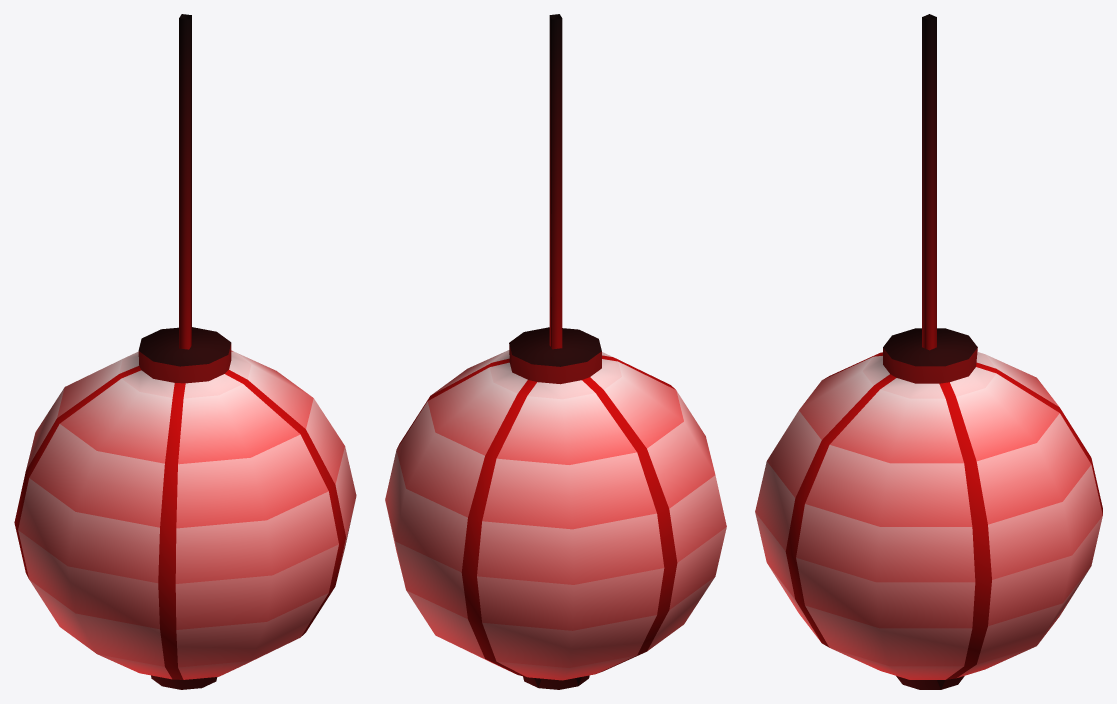
The model's file is SK_Lantern_001.FBX.
3 views of the same model, side by side, from view 1: azimuth 30°, elevation 25°; view 2: azimuth 150°, elevation 25°; view 3: azimuth 270°, elevation 25° (orthographic).
Parts seen in each view (by area): view 1: SK_Lantern_001; view 2: SK_Lantern_001; view 3: SK_Lantern_001.
Part boxes in pixels (bbox=[...]): SK_Lantern_001: bbox=[14, 14, 356, 689]; SK_Lantern_001: bbox=[385, 14, 726, 689]; SK_Lantern_001: bbox=[755, 14, 1102, 689].
Size of the model in its own units: 45.33 by 98.84 by 47.28.
Materials: 1 (1 with a texture image).
